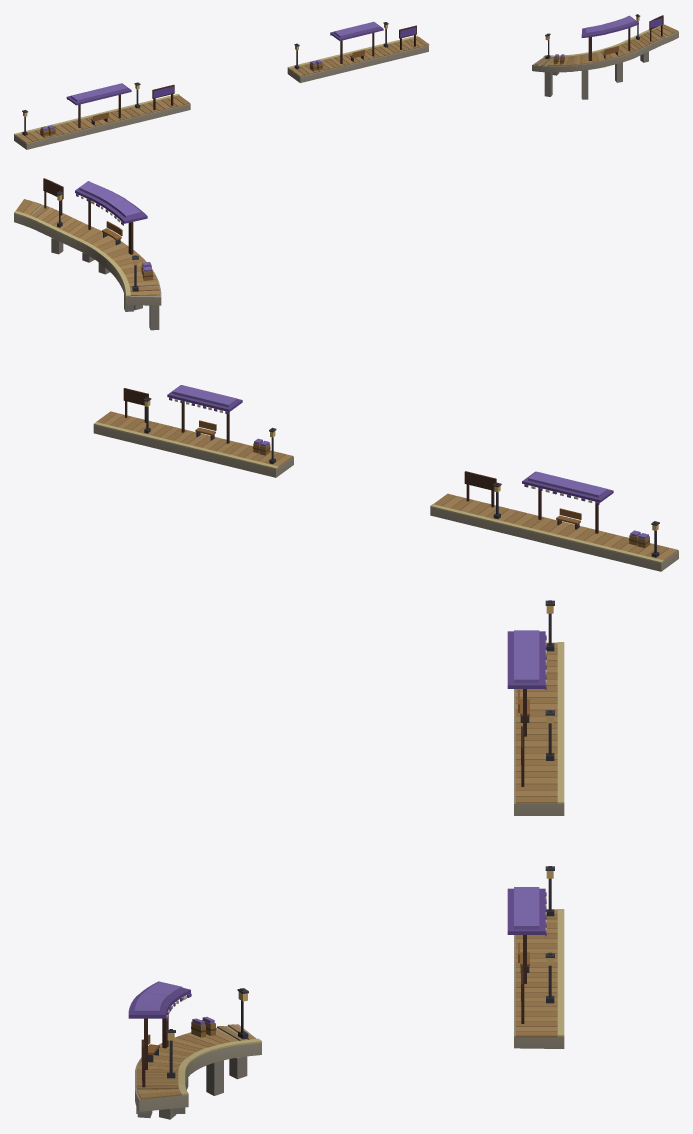
Rendered from campaign_stations.glb.
The picture shows the model from 3 angles, top to bottom: view 1: azimuth 30°, elevation 25°; view 2: azimuth 150°, elevation 25°; view 3: azimuth 270°, elevation 25°; orthographic projection. The views are drawn at different scales.
Parts seen in each view (by area): view 1: ReferencePlatform_forest, ReferencePlatform_foothill, ReferencePlatform_river, ReferencePlatformPiers_foothill; view 2: ReferencePlatform_forest, ReferencePlatform_river, ReferencePlatform_foothill, ReferencePlatformPiers_foothill; view 3: ReferencePlatform_forest, ReferencePlatform_river, ReferencePlatform_foothill, ReferencePlatformPiers_foothill.
Boxes of the visible parts, <box> form: ReferencePlatform_forest: <box>14,82,190,149</box>; ReferencePlatform_foothill: <box>532,14,678,72</box>; ReferencePlatform_river: <box>287,21,429,82</box>; ReferencePlatformPiers_foothill: <box>544,51,648,99</box>; ReferencePlatform_forest: <box>430,471,678,571</box>; ReferencePlatform_river: <box>93,385,293,477</box>; ReferencePlatform_foothill: <box>14,178,161,305</box>; ReferencePlatformPiers_foothill: <box>51,238,159,330</box>; ReferencePlatform_forest: <box>507,600,564,815</box>; ReferencePlatform_river: <box>507,866,564,1048</box>; ReferencePlatform_foothill: <box>128,981,261,1111</box>; ReferencePlatformPiers_foothill: <box>136,1056,247,1119</box>.
Size of the model in its own units: 40.85 by 5.14 by 13.8.
